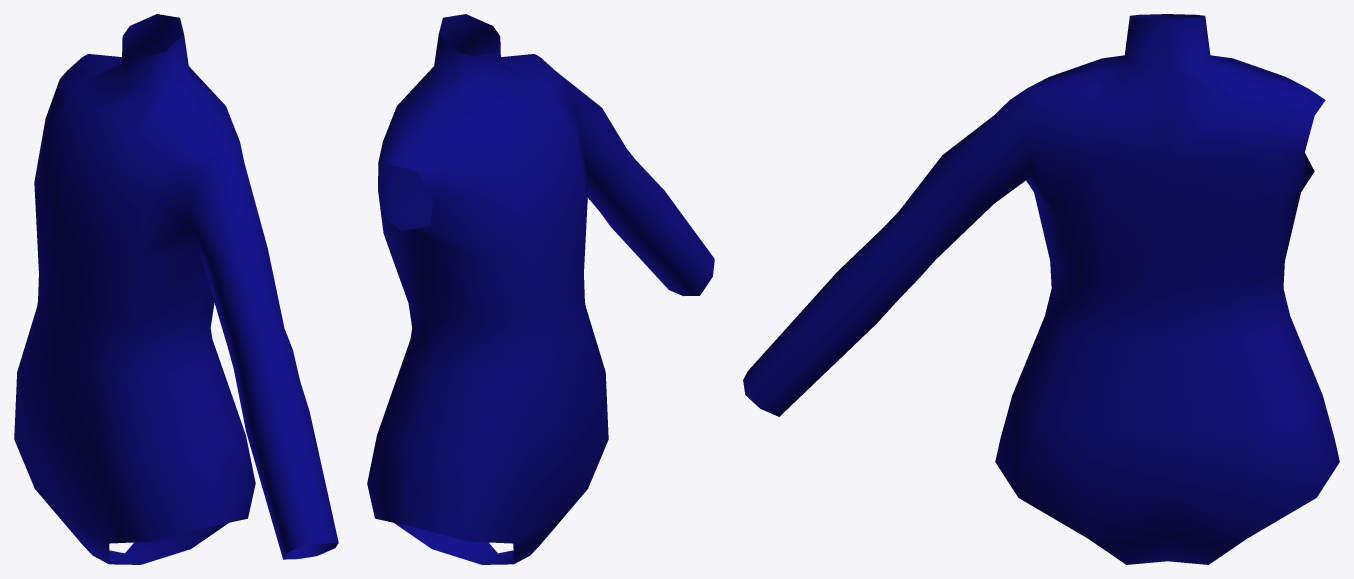
File: body.obj
3 views of the same model, side by side, from view 1: azimuth 30°, elevation 25°; view 2: azimuth 150°, elevation 25°; view 3: azimuth 270°, elevation 25° (orthographic). The views are drawn at different scales.
Visible parts, largest first — view 1: Object002; view 2: Object002; view 3: Object002.
Boxes of the visible parts, bbox=[...] form: Object002: bbox=[14, 14, 338, 564]; Object002: bbox=[367, 14, 714, 564]; Object002: bbox=[743, 14, 1339, 564].
Bounding box in the file's own units: 133 × 423 × 404.
